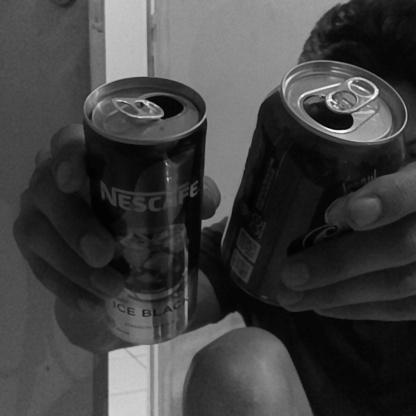alumunium_can: (221, 60, 409, 308), (81, 76, 210, 347)
